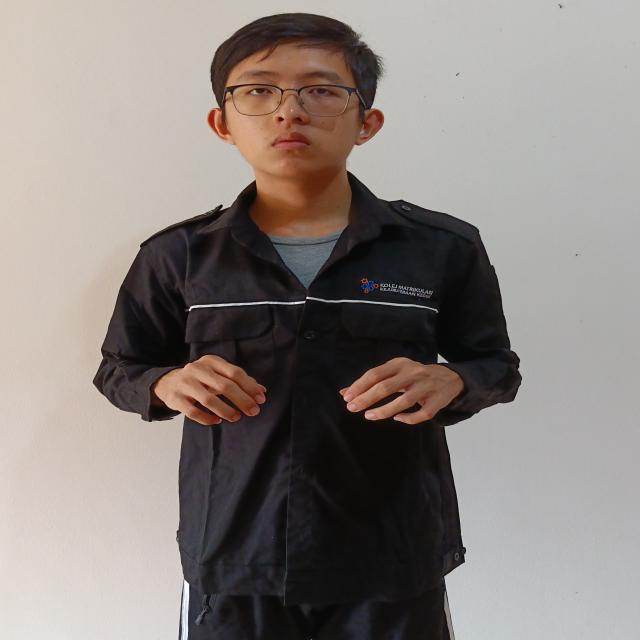person_with_labcoat: (95, 14, 521, 640)
